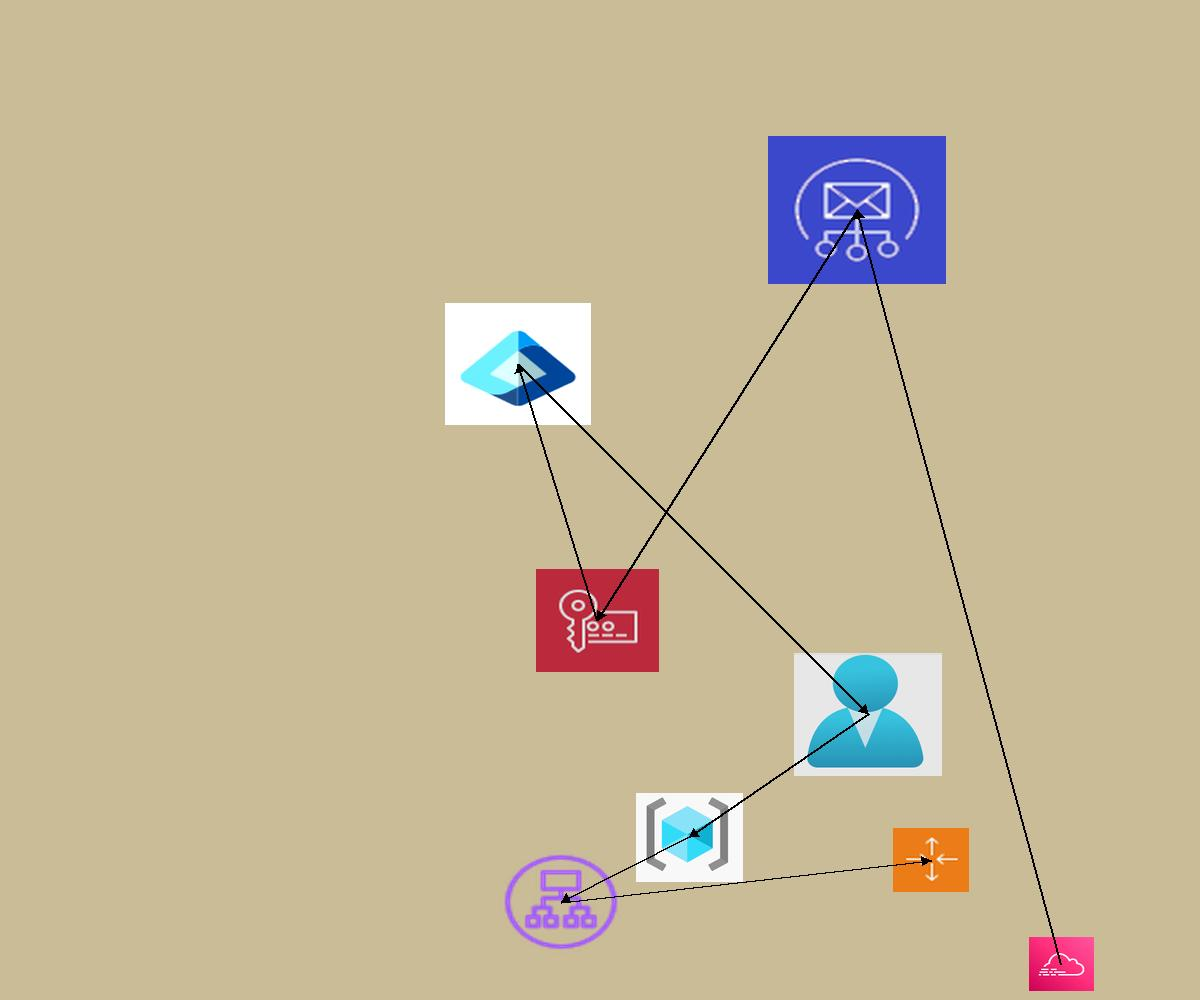AWS-CloudTrail: (1029, 937, 1094, 991)
AWS-Key-Management-Service: (536, 569, 659, 672)
AWS-Res_Elastic-Load-Balancing_Application-Load-Balancer: (500, 851, 622, 953)
AWS-Scaling-group: (893, 828, 969, 892)
AWS-Simple-Email-Service: (768, 136, 946, 284)
Azure_microsoft_entra: (445, 303, 591, 425)
Azure_resource_group: (636, 793, 743, 882)
Azure_users: (794, 653, 942, 776)
